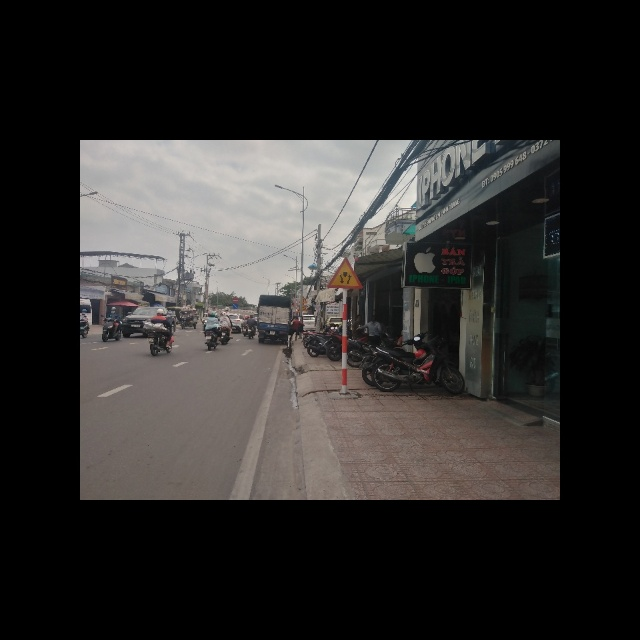Đường đôi: (326, 255, 364, 289)
